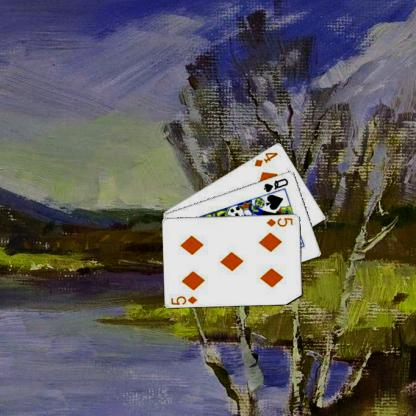4D: (252, 149, 279, 168)
5D: (264, 214, 294, 228), (168, 294, 198, 306)
QS: (261, 176, 289, 193)
